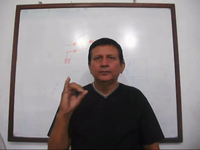oi: (57, 74, 87, 114)
